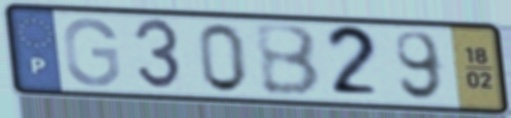0: (194, 20, 251, 96)
2: (321, 23, 390, 105)
3: (128, 15, 185, 95)
9: (393, 29, 448, 103)
B: (250, 23, 324, 99)
G: (60, 15, 123, 89)
